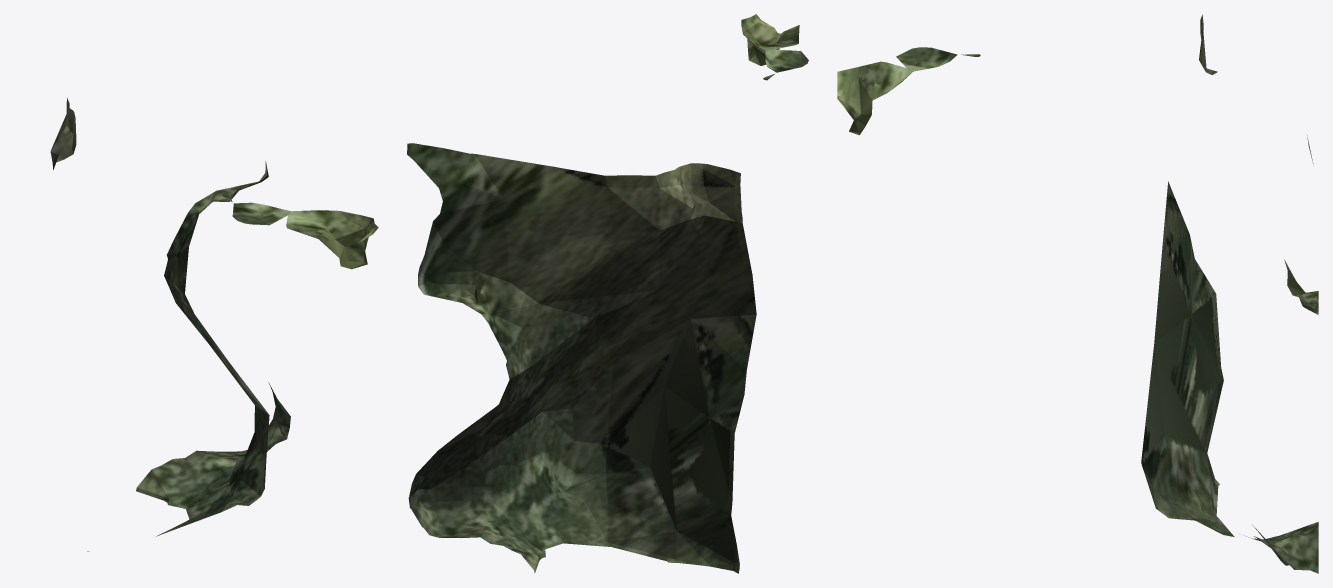
3 renders of one model, left to right at view 1: azimuth 30°, elevation 25°; view 2: azimuth 150°, elevation 25°; view 3: azimuth 270°, elevation 25°, orthographic. The views are drawn at different scales.
Size of the model in its own units: 4.34 by 5.9 by 5.9.
2 materials, 2 textured.
